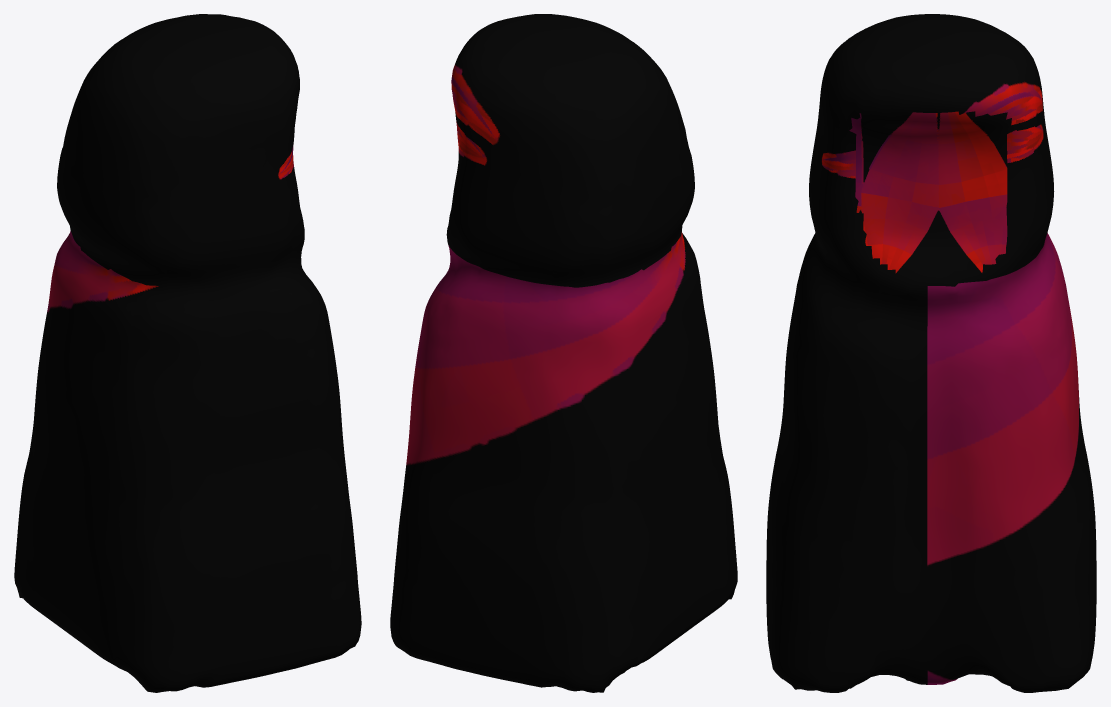
Rendered from _Character_.fbx.
3 renders of one model, left to right at view 1: azimuth 30°, elevation 25°; view 2: azimuth 150°, elevation 25°; view 3: azimuth 270°, elevation 25°, orthographic. The views are drawn at different scales.
Parts seen in each view (by area): view 1: LowPoly; view 2: LowPoly; view 3: LowPoly.
Boxes of the visible parts, left/top/right/bottom form: LowPoly: left=14, top=14, right=361, bottom=692; LowPoly: left=390, top=14, right=737, bottom=692; LowPoly: left=766, top=14, right=1096, bottom=692.
Size of the model in its own units: 18.18 by 41.89 by 20.57.
